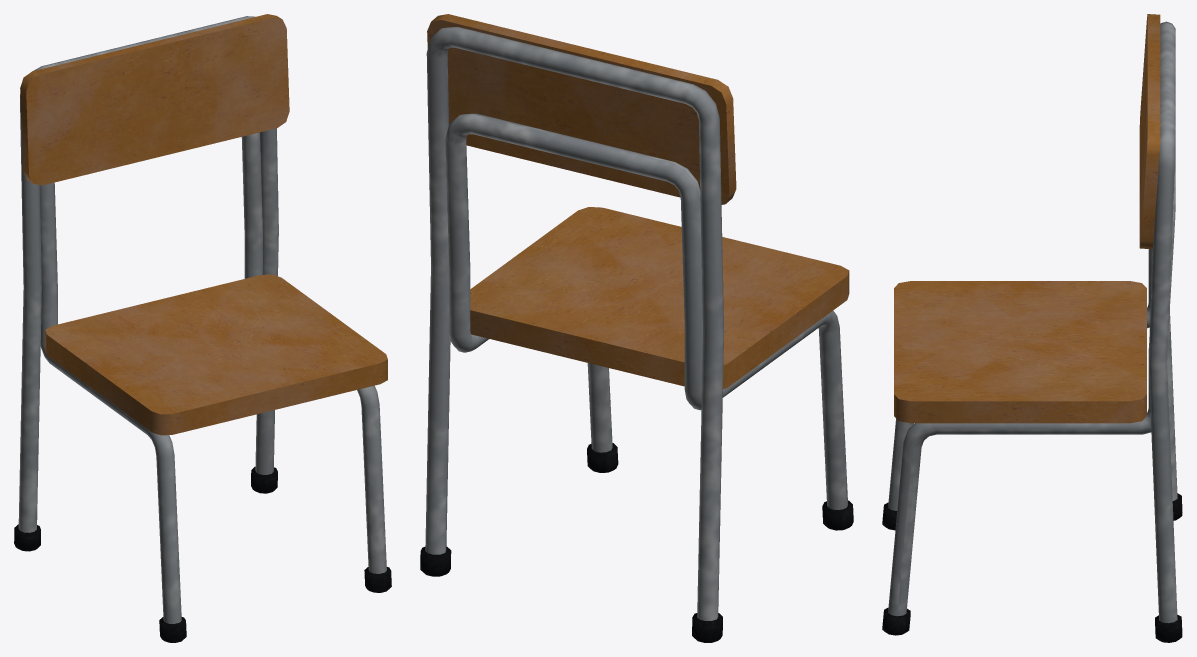
The model's file is ChairStudent.fbx.
The picture shows the model from 3 angles, left to right: view 1: azimuth 30°, elevation 25°; view 2: azimuth 150°, elevation 25°; view 3: azimuth 270°, elevation 25°; orthographic projection. The views are drawn at different scales.
Visible parts, largest first — view 1: ChairStudent; view 2: ChairStudent; view 3: ChairStudent.
Boxes of the visible parts, x1,y1,x2,y2 form: ChairStudent: [14, 14, 391, 642]; ChairStudent: [420, 14, 853, 642]; ChairStudent: [882, 14, 1182, 642].
Bounding box in the file's own units: 0.5 × 0.8797 × 0.4748.
